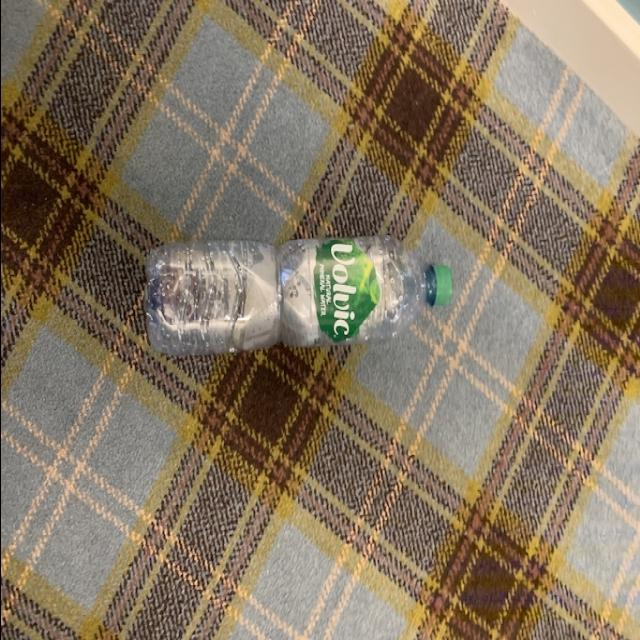PET: (144, 238, 456, 356)
